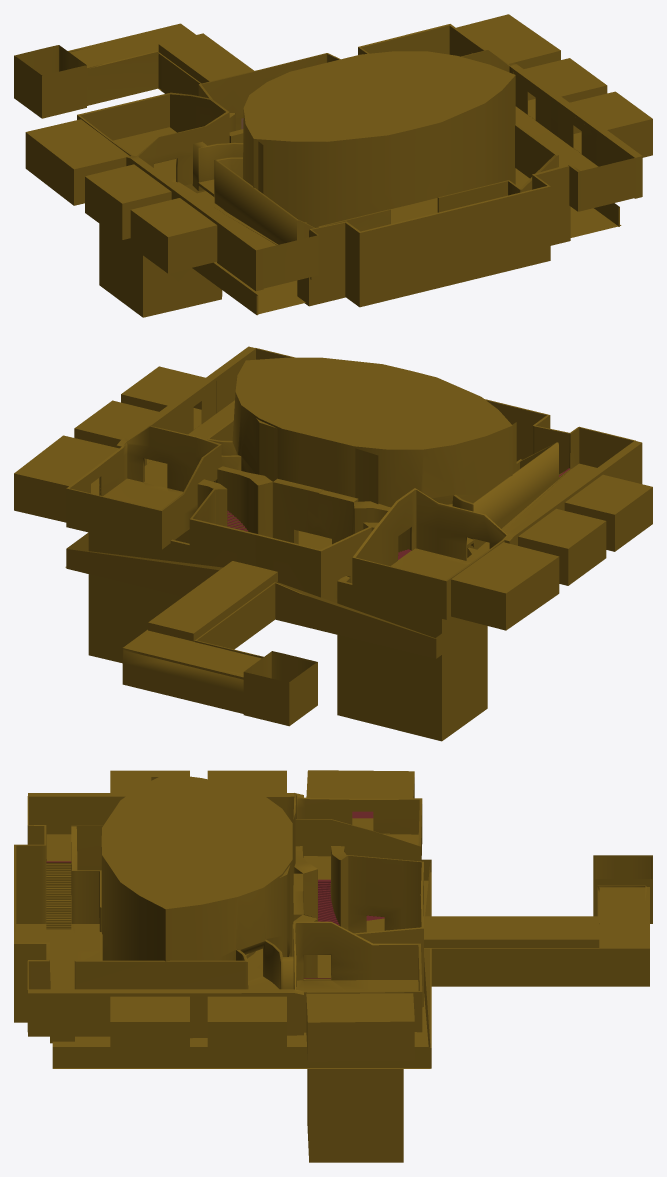
The model's file is Structure.fbx.
The picture shows the model from 3 angles, top to bottom: view 1: azimuth 30°, elevation 25°; view 2: azimuth 150°, elevation 25°; view 3: azimuth 270°, elevation 25°; orthographic projection. The views are drawn at different scales.
Visible parts, largest first — view 1: PolyShape__2_, Cube__8__Clone_, Cube, Cube__8_, PolyShape__2__Clone_, PolyShape__1__Clone_, Cube__1_, Cube__2_, Cube__3_, Plane, Cube__4_, Stairs (+1 smaller); view 2: Cube__8__Clone_, Cube__8_, PolyShape__2_, PolyShape__1__Clone_, PolyShape__2__Clone_, PolyShape__1_, Cube__4_, Cube__1_, Cube__3_, Cube__2_, Cube; view 3: Cube__8_, PolyShape__2__Clone_, Cube__8__Clone_, PolyShape__2_, Cube__3_, PolyShape__1_, Cube, PolyShape__1__Clone_, Cube__4_, Cube__1_, Plane, Cube__2_ (+3 smaller).
Part boxes in pixels (x1=…): PolyShape__2_: x1=192, y1=52, x2=513, y2=244; Cube__8__Clone_: x1=25, y1=92, x2=318, y2=291; Cube: x1=298, y1=155, x2=569, y2=307; Cube__8_: x1=358, y1=14, x2=652, y2=211; PolyShape__2__Clone_: x1=246, y1=51, x2=558, y2=202; PolyShape__1__Clone_: x1=99, y1=69, x2=264, y2=317; Cube__1_: x1=68, y1=23, x2=195, y2=105; Cube__2_: x1=14, y1=45, x2=86, y2=118; Cube__3_: x1=158, y1=33, x2=254, y2=95; Plane: x1=214, y1=168, x2=621, y2=314; Cube__4_: x1=192, y1=203, x2=619, y2=315; Stairs: x1=297, y1=277, x2=345, y2=306; Cube__8__Clone_: x1=352, y1=426, x2=652, y2=630; Cube__8_: x1=14, y1=346, x2=294, y2=549; PolyShape__2_: x1=238, y1=358, x2=558, y2=549; PolyShape__1__Clone_: x1=255, y1=490, x2=487, y2=741; PolyShape__2__Clone_: x1=206, y1=357, x2=516, y2=557; PolyShape__1_: x1=88, y1=466, x2=323, y2=663; Cube__4_: x1=66, y1=532, x2=482, y2=658; Cube__1_: x1=122, y1=582, x2=275, y2=713; Cube__3_: x1=147, y1=561, x2=277, y2=649; Cube__2_: x1=243, y1=651, x2=317, y2=726; Cube: x1=484, y1=399, x2=569, y2=474; Cube__8_: x1=27, y1=921, x2=422, y2=1061; PolyShape__2__Clone_: x1=75, y1=775, x2=295, y2=1038; Cube__8__Clone_: x1=27, y1=770, x2=422, y2=879; PolyShape__2_: x1=71, y1=773, x2=292, y2=956; Cube__3_: x1=423, y1=916, x2=599, y2=986; PolyShape__1_: x1=293, y1=891, x2=423, y2=1162; Cube: x1=14, y1=826, x2=102, y2=1022; PolyShape__1__Clone_: x1=292, y1=846, x2=423, y2=933; Cube__4_: x1=52, y1=859, x2=431, y2=1068; Cube__1_: x1=424, y1=885, x2=649, y2=986; Plane: x1=52, y1=880, x2=430, y2=1068; Cube__2_: x1=593, y1=855, x2=652, y2=923.
Bounding box in the file's own units: 4785 × 2045 × 5119.
